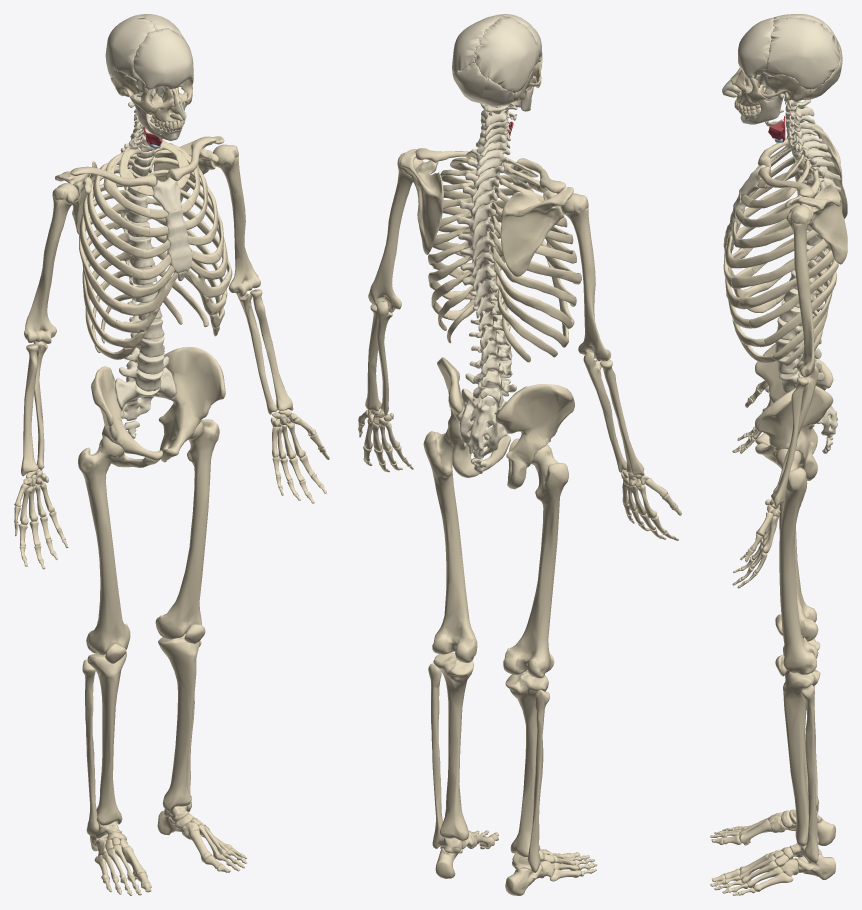
The model's file is esqueleto.glb.
3 renders of one model, left to right at view 1: azimuth 30°, elevation 25°; view 2: azimuth 150°, elevation 25°; view 3: azimuth 270°, elevation 25°, orthographic. The views are drawn at different scales.
Visible parts, largest first — view 1: Femur.r, Femur.l, Hip bone.l, Tibia.l, Frontal bone, Tibia.r, Humerus.r, Humerus.l, Hip bone.r, Parietal bone.r, Sacrum, Fibula.r (+18 smaller); view 2: Femur.r, Femur.l, Hip bone.r, Scapula.r, Parietal bone.r, Tibia.l, Tibia.r, Humerus.r, Humerus.l, Hip bone.l, Scapula.l, Sacrum (+15 smaller); view 3: Femur.l, Parietal bone.l, Tibia.l, Hip bone.l, Humerus.l, Scapula.l, Fibula.l, Frontal bone, Hip bone.r, Radius.l, Femur.r, Seventh rib.l (+28 smaller).
Part boxes in pixels (box(x1,y1,x2,y2)): Femur.r: box(78, 436, 130, 655); Femur.l: box(155, 419, 219, 639); Hip bone.l: box(158, 347, 225, 462); Tibia.l: box(158, 632, 200, 811); Frontal bone: box(133, 28, 193, 91); Tibia.r: box(87, 652, 126, 825); Humerus.r: box(24, 183, 78, 343); Humerus.l: box(212, 144, 260, 296); Hip bone.r: box(91, 366, 162, 467); Parietal bone.r: box(105, 15, 157, 79); Sacrum: box(115, 367, 175, 420); Fibula.r: box(82, 659, 99, 835); Femur.r: box(503, 444, 568, 678); Femur.l: box(423, 428, 477, 662); Hip bone.r: box(495, 384, 574, 489); Scapula.r: box(500, 187, 573, 276); Parietal bone.r: box(474, 16, 539, 93); Tibia.l: box(433, 652, 473, 840); Tibia.r: box(505, 671, 548, 857); Humerus.r: box(561, 193, 611, 361); Humerus.l: box(368, 152, 423, 312); Hip bone.l: box(437, 357, 510, 477); Scapula.l: box(400, 149, 443, 254); Sacrum: box(459, 388, 507, 458); Femur.l: box(775, 448, 818, 674); Parietal bone.l: box(763, 17, 840, 89); Tibia.l: box(783, 669, 820, 846); Hip bone.l: box(755, 386, 833, 480); Humerus.l: box(786, 205, 815, 377); Scapula.l: box(785, 183, 847, 264); Fibula.l: box(800, 684, 818, 863); Frontal bone: box(738, 17, 774, 78); Hip bone.r: box(755, 343, 833, 453); Radius.l: box(771, 377, 808, 506); Femur.r: box(779, 470, 818, 641); Seventh rib.l: box(739, 249, 834, 309).
Bounding box in the file's own units: 0.6692 × 1.7 × 0.2501.
